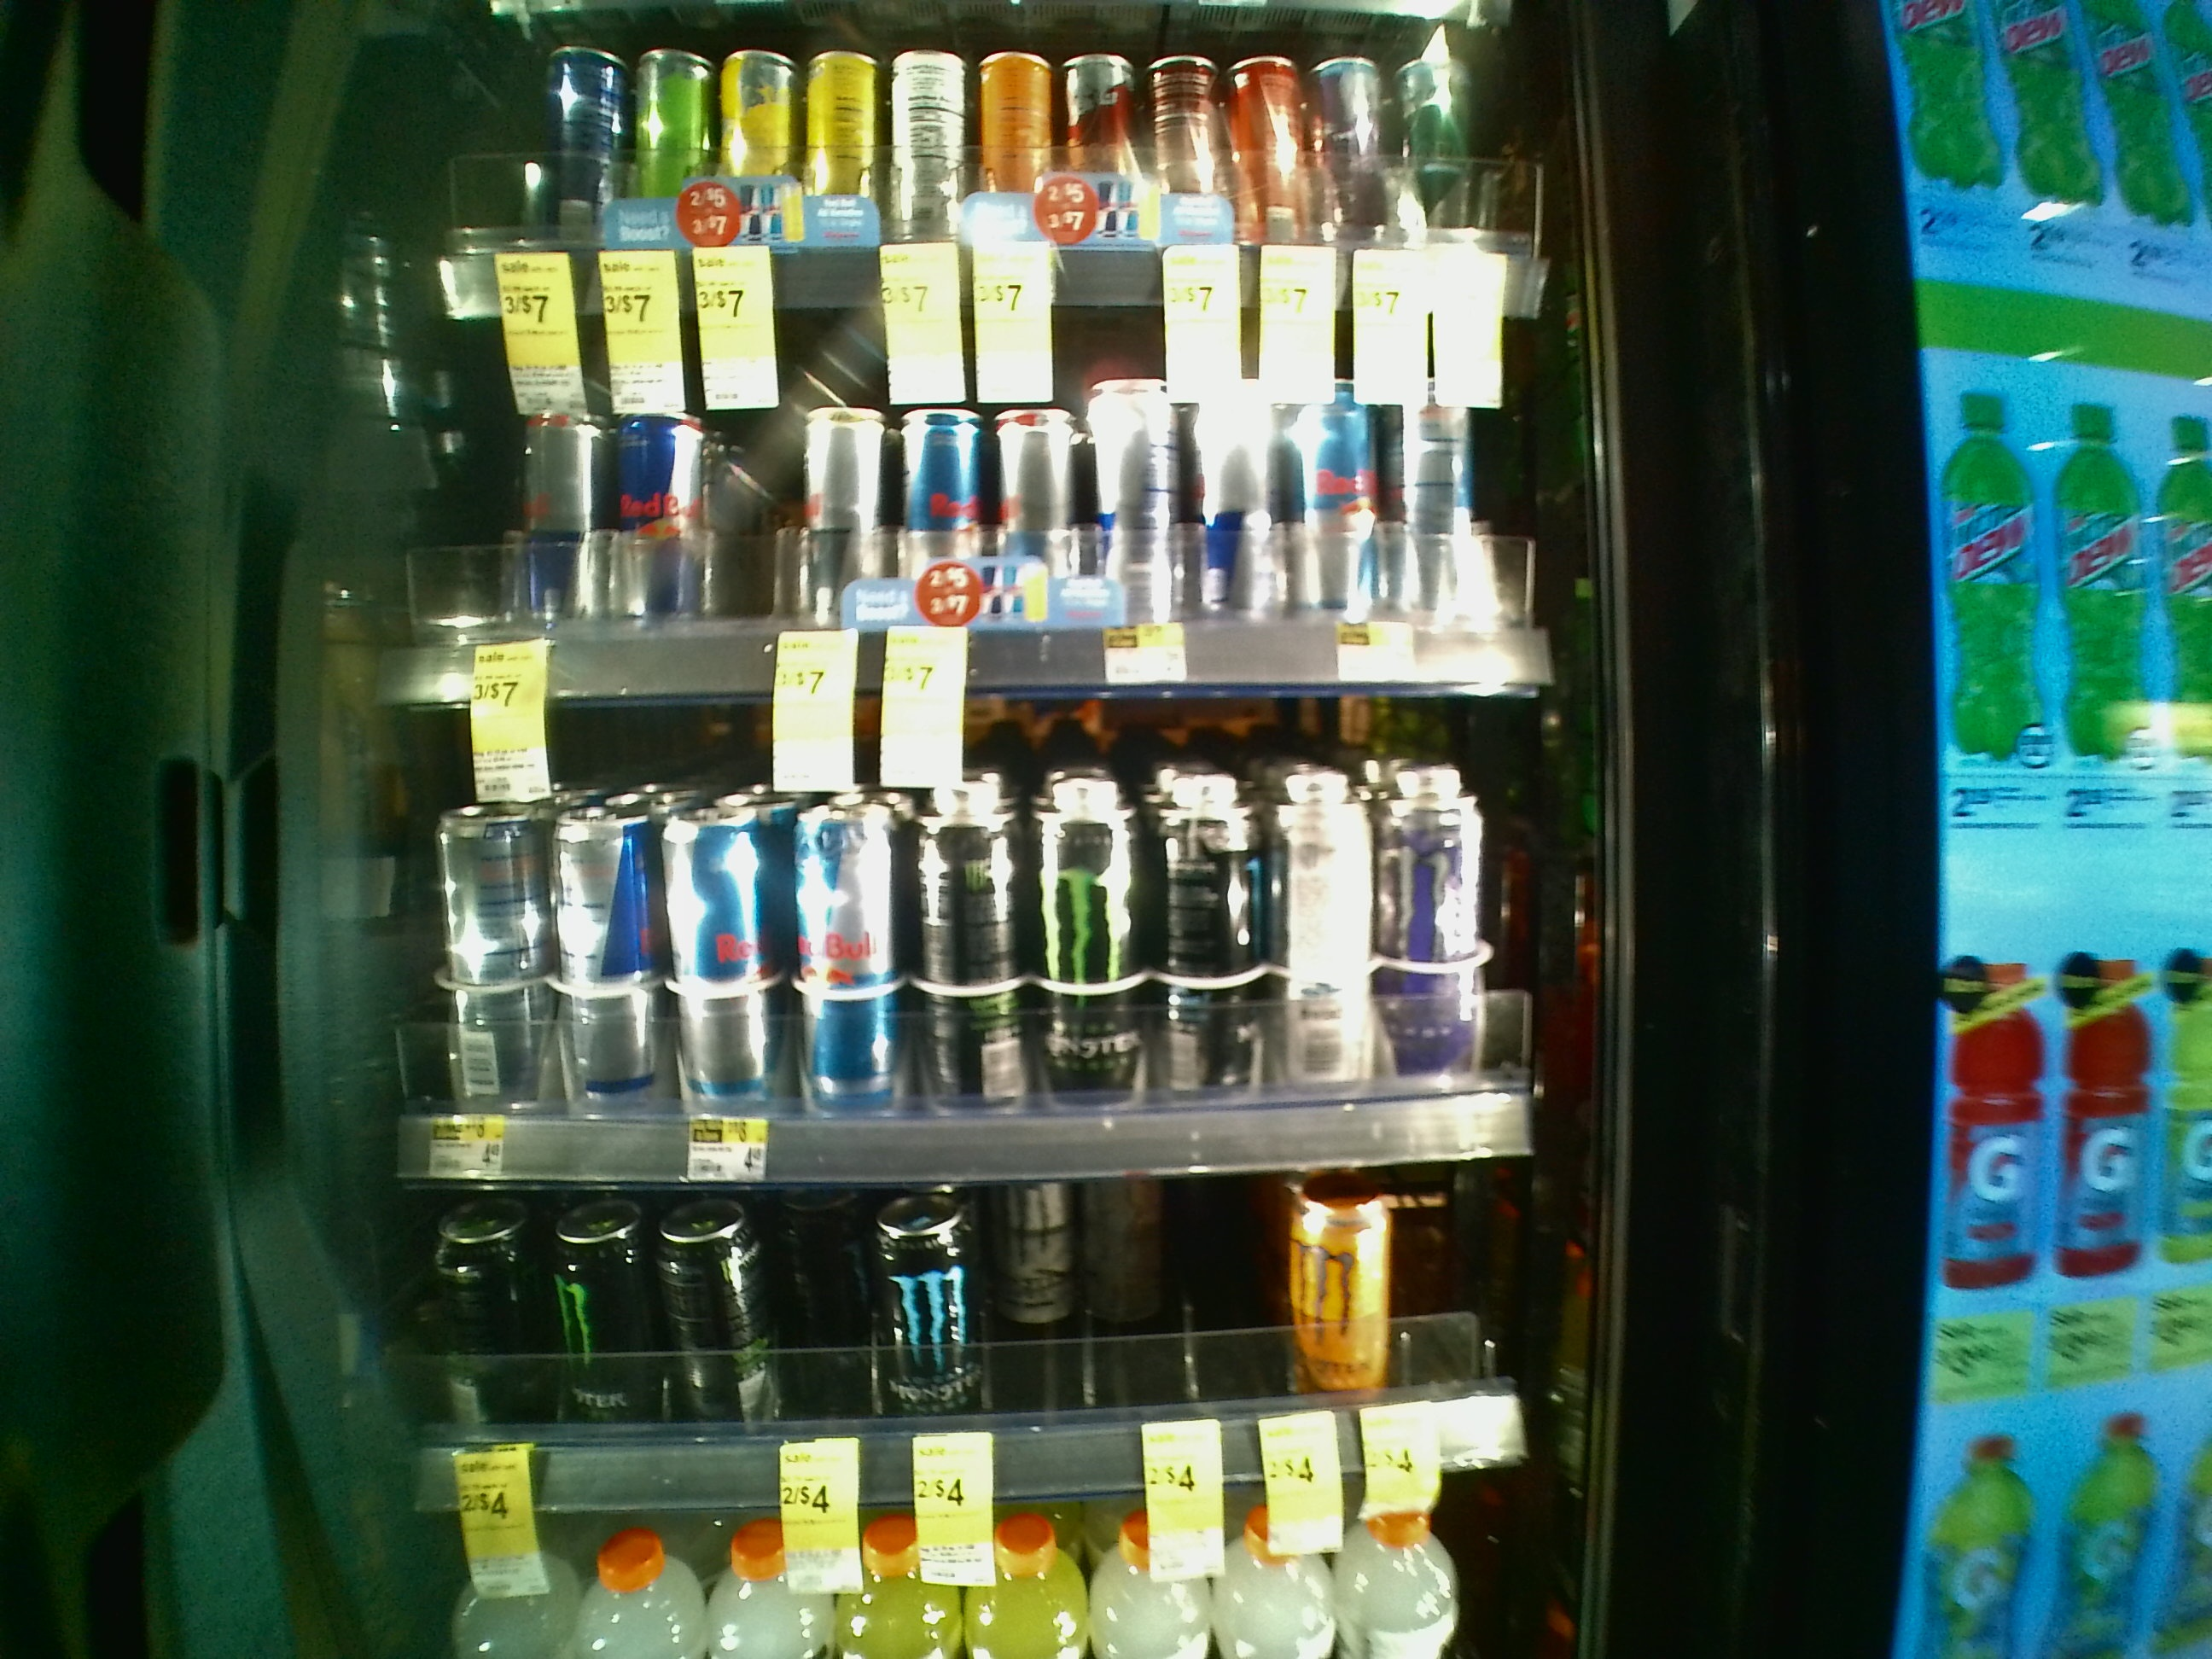shelf: (352, 692, 1634, 1164), (357, 296, 1625, 694)
